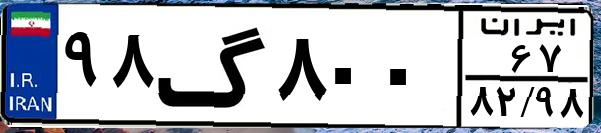0: (385, 28, 445, 110), (330, 28, 385, 110)
2: (495, 70, 520, 125)
6: (508, 27, 537, 80)
7: (537, 27, 568, 80)
8: (270, 28, 330, 110), (110, 28, 156, 98), (560, 70, 590, 125), (470, 70, 495, 125)
9: (57, 26, 110, 100), (535, 70, 560, 125)
گ: (156, 12, 270, 120)
